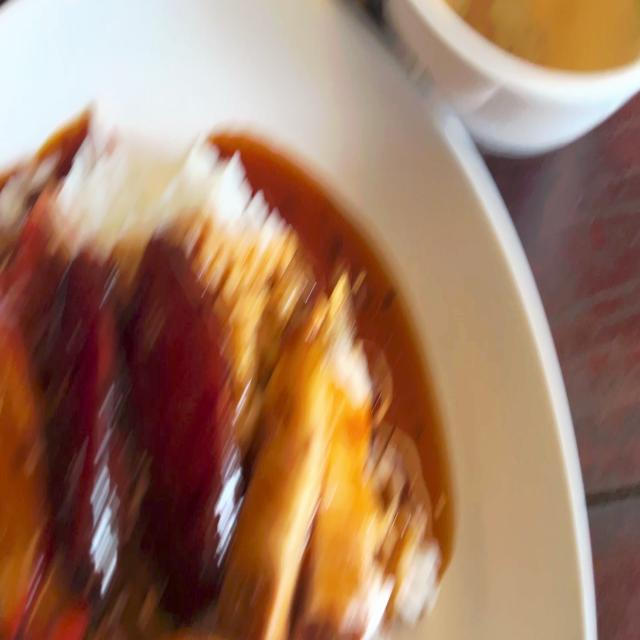chainese_sausage: (61, 245, 217, 558), (136, 242, 247, 566), (54, 248, 118, 573)
crispy_pork: (243, 294, 379, 635), (242, 333, 317, 609), (316, 341, 370, 621)
red_pork: (0, 210, 55, 640)
red_pork_and_crispy_pork: (0, 106, 449, 640)
rice: (69, 109, 287, 254)
